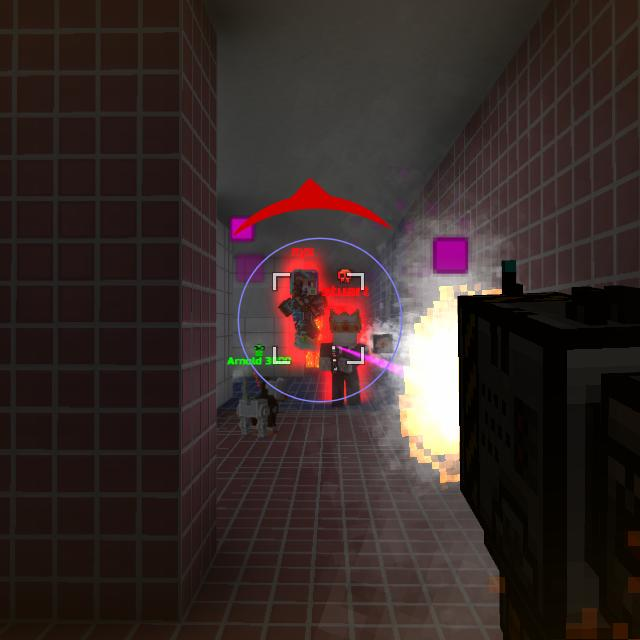Enemy: (319, 309, 371, 405), (278, 267, 325, 348)
